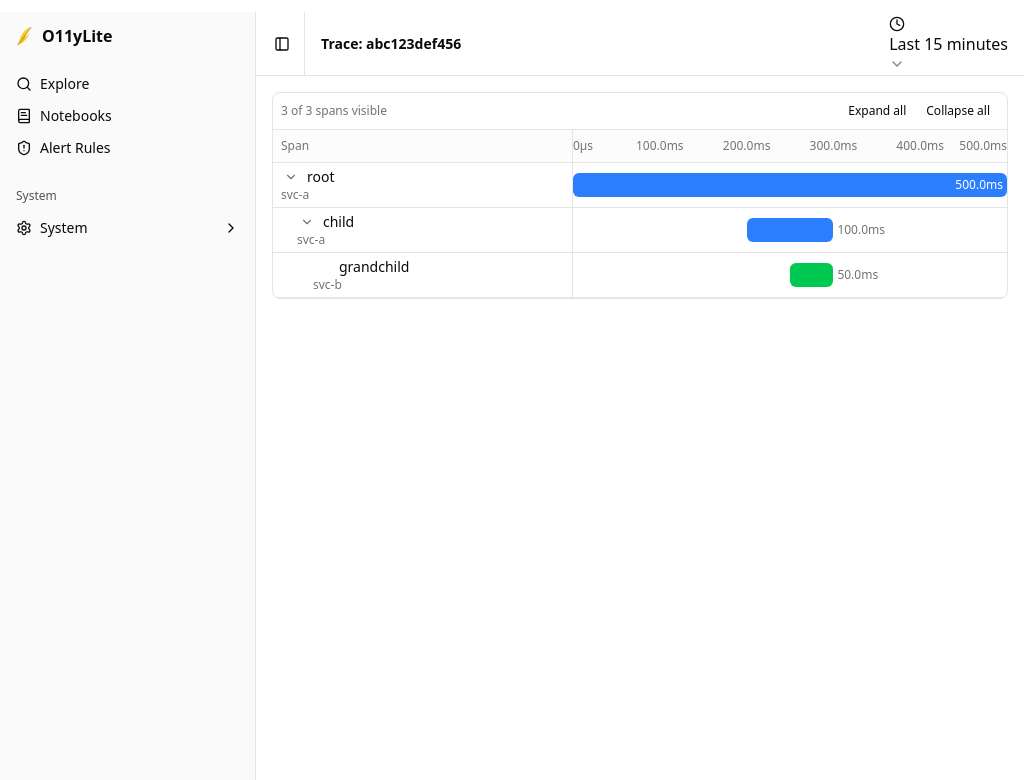
Scenario: Trace page — span click opens side panel › expands and collapses all span groups from the toolbar
Expected: the text "grandchild" is shown, [339,257,409,277]
What coordinates should you click on to do the following:
click the button with aria-label "Collapse all span groups"
I would click on:
 (958, 111)
Its box is [917,99,999,123].
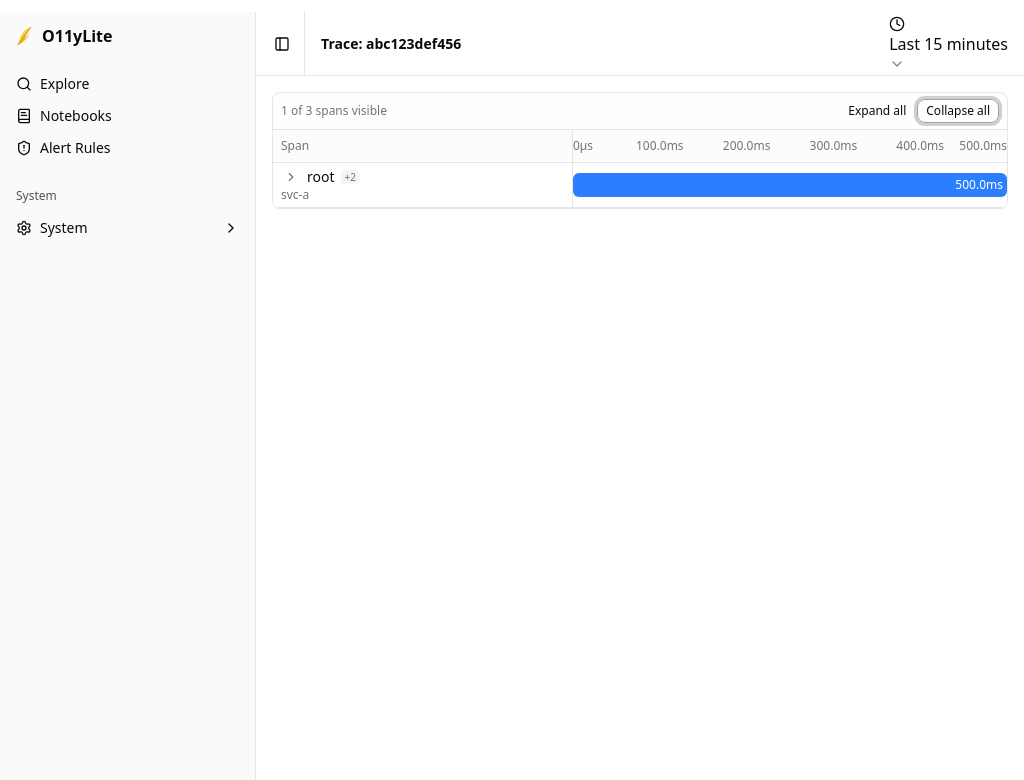
Expected: the text "root" is shown, [307,167,334,187]
Result: the text "child" is gone
Result: the text "1 of 3 spans visible" is shown at [281,103,387,119]
What coordinates should you click on to do the following:
click the button with aria-label "Expand all span groups"
I would click on:
 (877, 111)
Its box is [839,99,915,123].
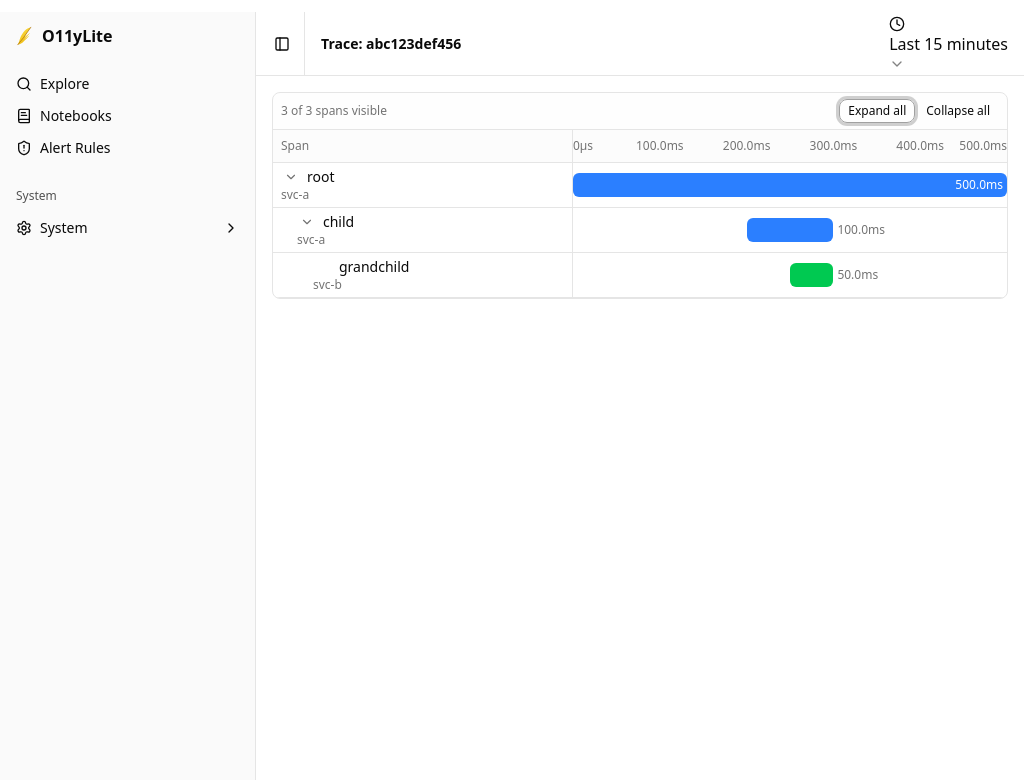
Result: the text "grandchild" is shown at [339,257,409,277]
Result: the text "3 of 3 spans visible" is shown at [281,103,387,119]
